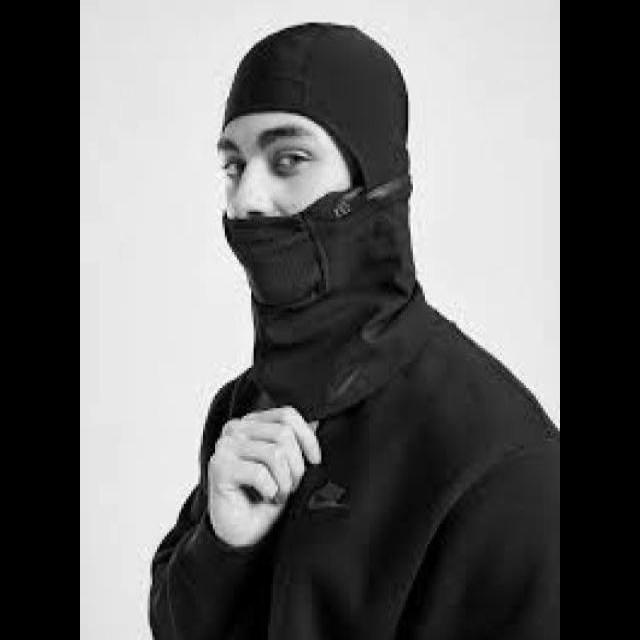6_pasamontana: (217, 21, 427, 406)
